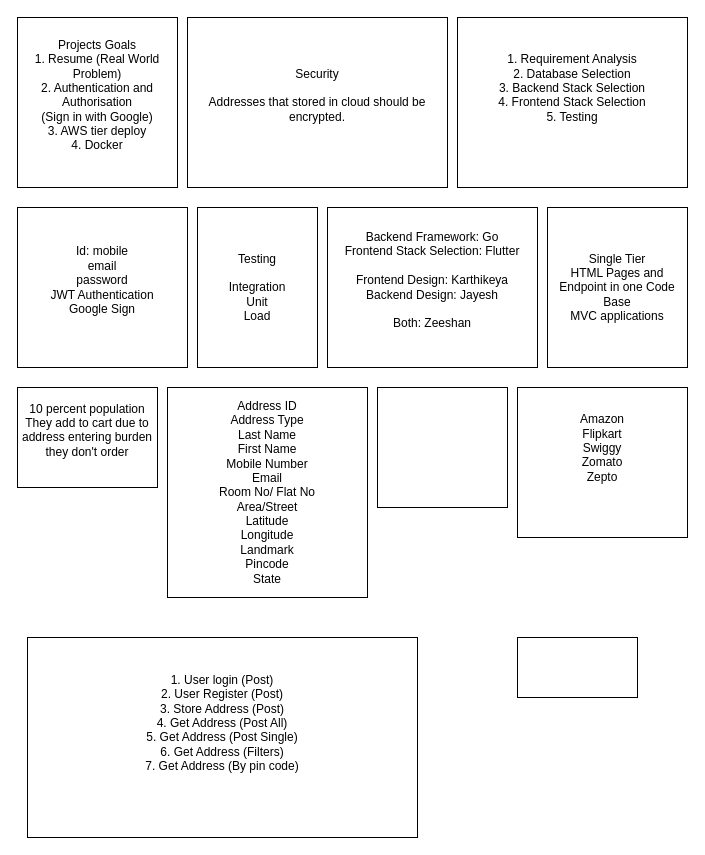
Image size: 705x855. Some labels were removed from this diagram. Here are the shapes that lost their labels. From the top down, the centre of each, then its label:
At point (442, 447): "1. User ID 2. Mobile Number ID 3. Email ID".
At point (577, 667): "1. REST API 2. GRAPH QL".
